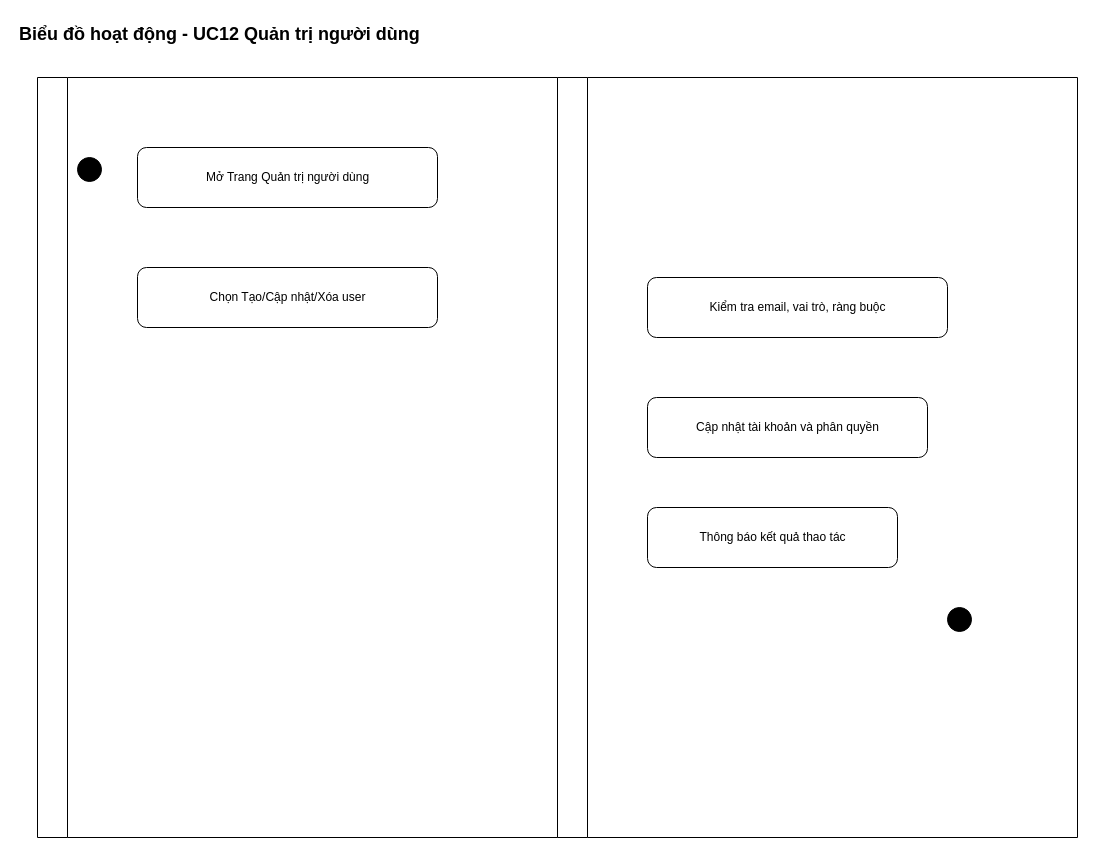
Image size: 1095x855. Some labels were removed from this diagram. Here are the shapes that lost their labels. From the top down, the box of each, then its label:
(36, 76, 558, 838): Admin
(556, 76, 1078, 838): Hệ thống
